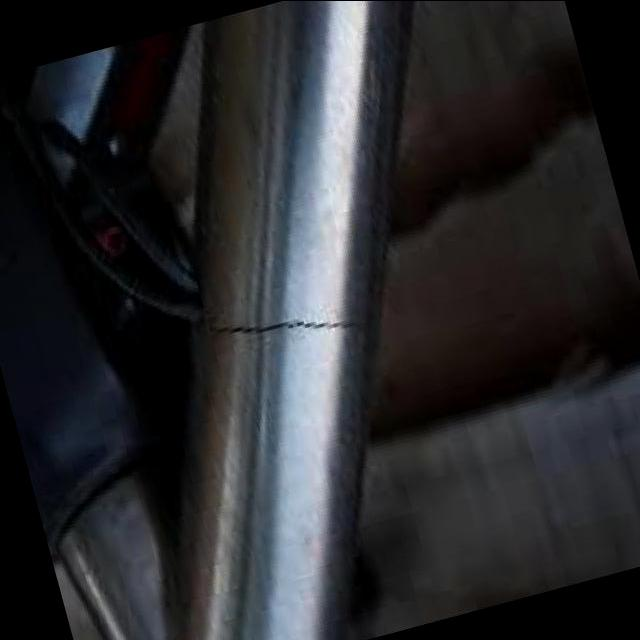defect: (203, 315, 364, 338)
